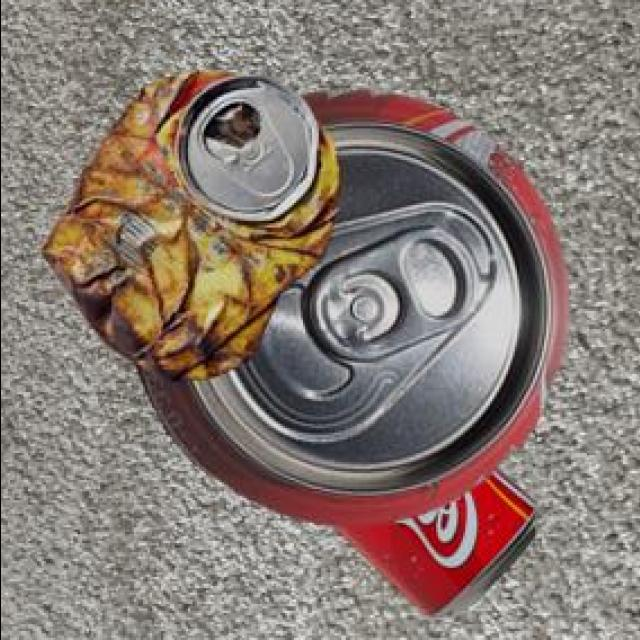logam: (132, 87, 565, 522), (37, 69, 335, 377), (330, 463, 533, 614)
